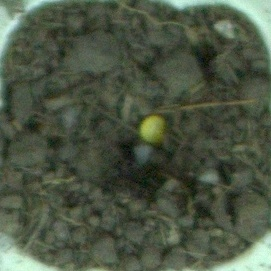chilli seed: (136, 114, 170, 145)
